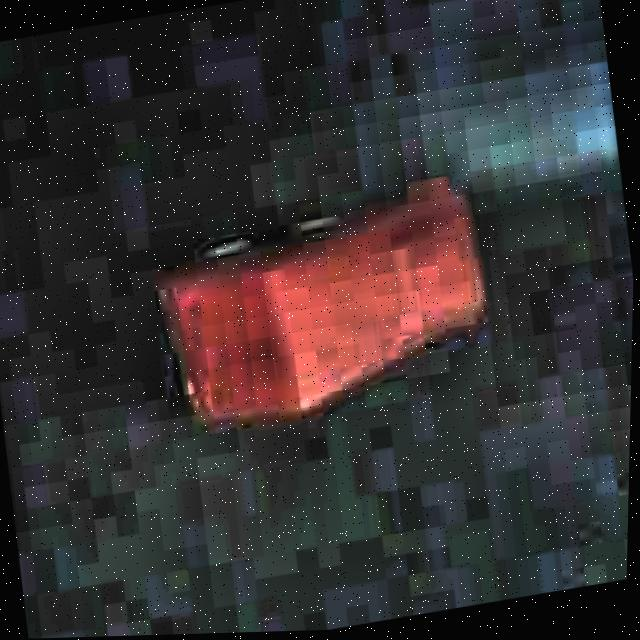bus: (131, 175, 512, 449)
